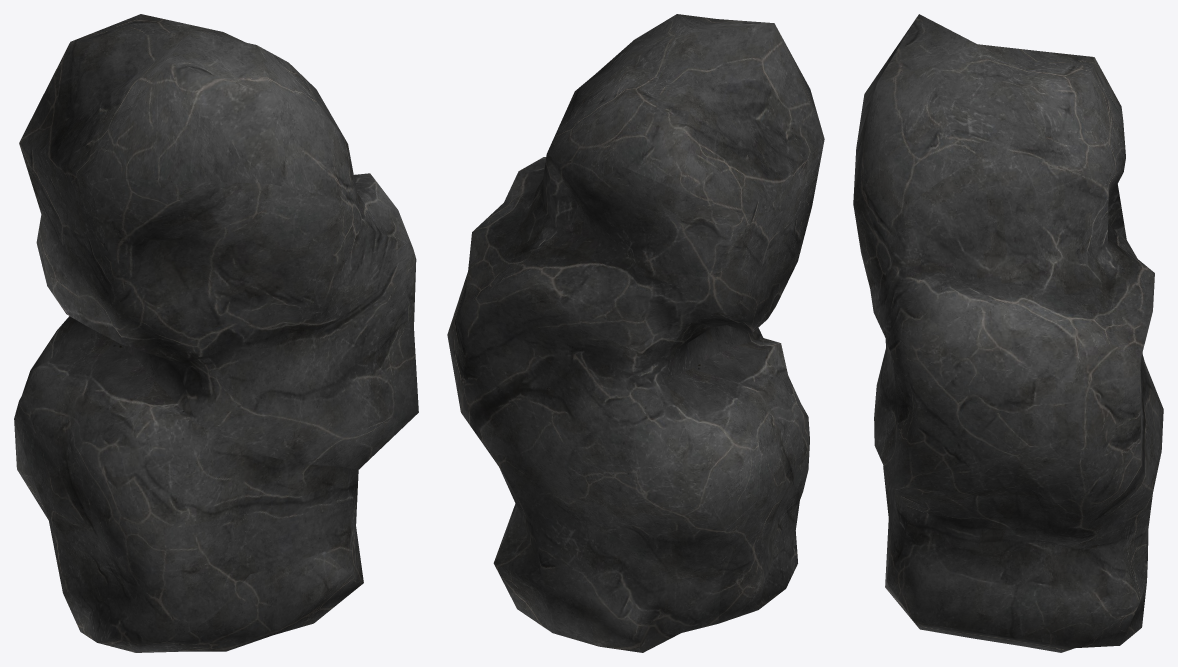
File: rockBig3_edit_for_FBX.fbx
The picture shows the model from 3 angles, left to right: view 1: azimuth 30°, elevation 25°; view 2: azimuth 150°, elevation 25°; view 3: azimuth 270°, elevation 25°; orthographic projection. The views are drawn at different scales.
Visible parts, largest first — view 1: rockBig3; view 2: rockBig3; view 3: rockBig3.
Part boxes in pixels (bbox=[...]): rockBig3: bbox=[14, 14, 418, 652]; rockBig3: bbox=[447, 14, 824, 652]; rockBig3: bbox=[853, 14, 1163, 652].
Size of the model in its own units: 114 by 200 by 100.
1 material, 1 textured.
